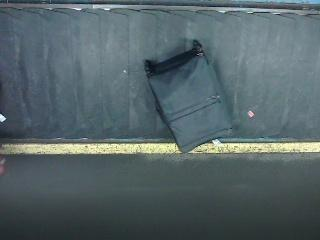Suitcase: (145, 40, 232, 153)
